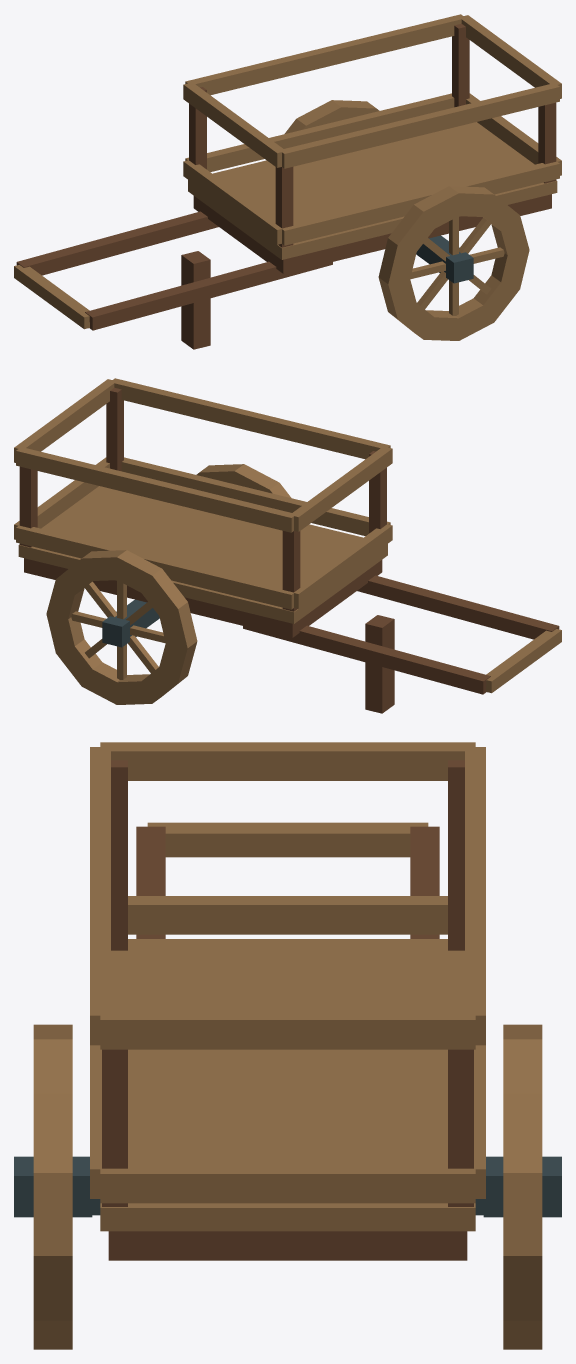
File: Prop_Daily_FarmCart_001_LOD1.glb
The picture shows the model from 3 angles, top to bottom: view 1: azimuth 30°, elevation 25°; view 2: azimuth 150°, elevation 25°; view 3: azimuth 270°, elevation 25°; orthographic projection. The views are drawn at different scales.
Parts seen in each view (by area): view 1: Prop_Daily_FarmCart_001_LOD1; view 2: Prop_Daily_FarmCart_001_LOD1; view 3: Prop_Daily_FarmCart_001_LOD1.
Boxes of the visible parts, x1=… form: Prop_Daily_FarmCart_001_LOD1: x1=14, y1=14, x2=561, y2=349; Prop_Daily_FarmCart_001_LOD1: x1=14, y1=378, x2=561, y2=713; Prop_Daily_FarmCart_001_LOD1: x1=14, y1=742, x2=561, y2=1349.
Size of the model in its own units: 3.3 by 1.46 by 1.68.
